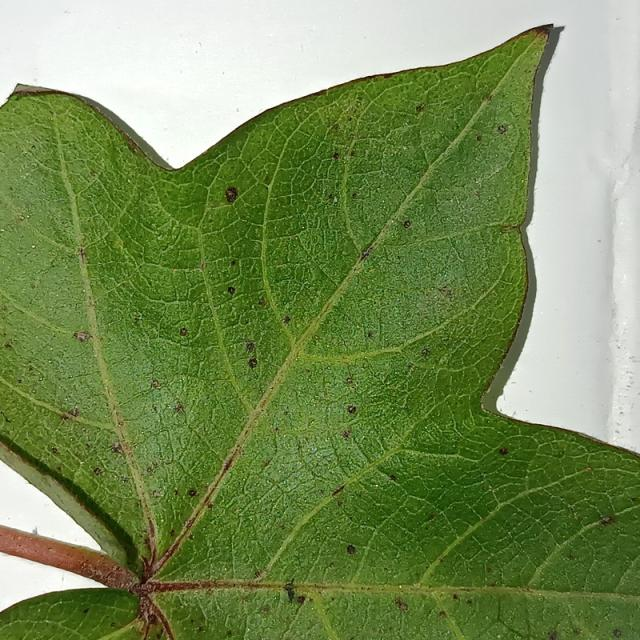Bacterial_Blight: (172, 606, 224, 638), (283, 579, 301, 605), (346, 398, 361, 420), (242, 357, 264, 372), (73, 330, 93, 343), (14, 209, 32, 223), (332, 150, 354, 161), (225, 186, 238, 203), (360, 246, 375, 260), (600, 514, 617, 526), (395, 597, 408, 611), (438, 285, 453, 297), (76, 247, 87, 263), (331, 484, 344, 497), (110, 442, 123, 454), (501, 224, 519, 232), (147, 461, 158, 473), (223, 459, 234, 471), (1, 411, 12, 423), (174, 403, 185, 414), (183, 518, 194, 529), (148, 614, 158, 625), (69, 407, 79, 417), (151, 379, 161, 389), (346, 544, 356, 554), (246, 341, 255, 351), (93, 467, 103, 476), (416, 103, 425, 112), (497, 125, 506, 134), (484, 93, 493, 102), (403, 220, 412, 229), (60, 413, 70, 421), (152, 490, 162, 498), (188, 489, 198, 497), (498, 447, 508, 455), (583, 466, 594, 473), (133, 316, 142, 324), (258, 298, 266, 307), (262, 459, 270, 468), (4, 341, 13, 349), (343, 430, 351, 439), (421, 348, 430, 356), (179, 328, 188, 336), (573, 627, 581, 636), (614, 628, 622, 637), (628, 497, 638, 504), (389, 474, 397, 482), (283, 316, 291, 324), (122, 476, 130, 484), (332, 152, 340, 160), (262, 605, 270, 613), (227, 286, 235, 294), (439, 610, 447, 618), (548, 634, 558, 640), (254, 570, 261, 578), (51, 446, 58, 454), (367, 331, 374, 338), (486, 566, 493, 573), (474, 191, 481, 198), (327, 193, 334, 200), (230, 259, 237, 266), (351, 192, 358, 199), (452, 593, 459, 600), (428, 513, 436, 519), (200, 261, 205, 270), (173, 489, 179, 496), (28, 365, 35, 371), (337, 500, 343, 507), (169, 529, 175, 536), (82, 608, 89, 614), (188, 533, 194, 540), (56, 465, 62, 472), (17, 378, 23, 384), (476, 135, 482, 141), (118, 421, 124, 427), (466, 599, 472, 605), (636, 497, 640, 502)
Cotton: (0, 29, 639, 639)
